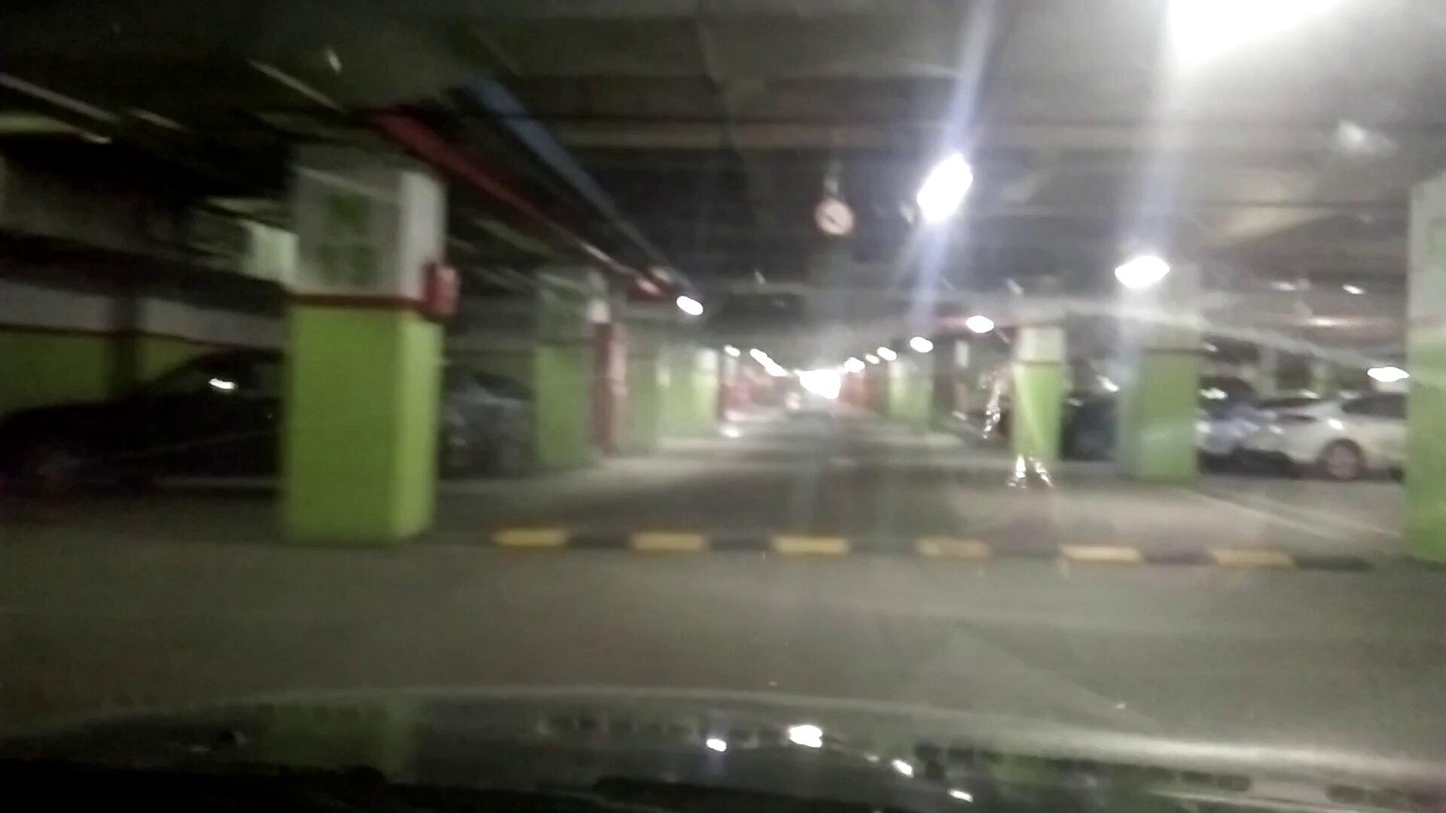Bump: (471, 523, 1408, 585)
